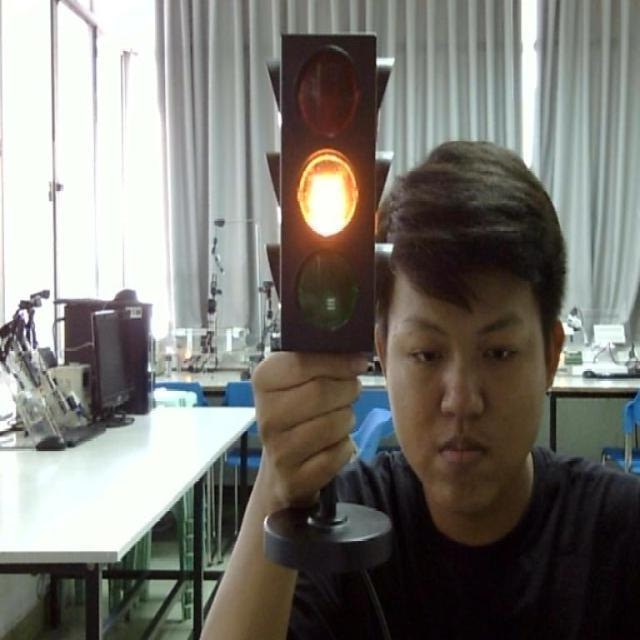yellow_light: (279, 32, 374, 350)
